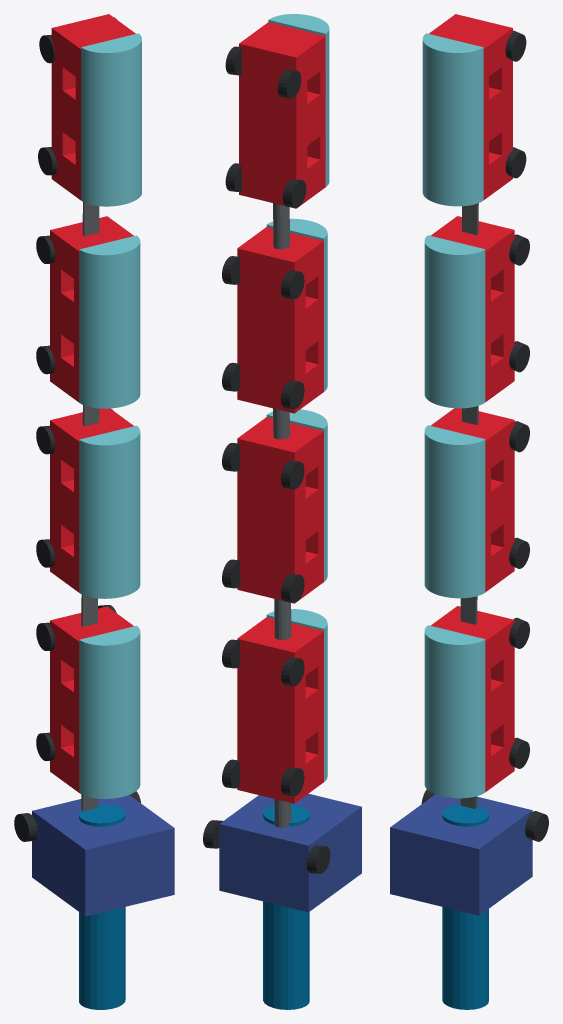
Rendered from tinker.obj.
3 views of the same model, side by side, from view 1: azimuth 30°, elevation 25°; view 2: azimuth 150°, elevation 25°; view 3: azimuth 330°, elevation 25° (orthographic).
Visible parts, largest first — view 1: group_0_7720667, group_0_15277357, group_0_3888547, group_0_30377, group_0_2829873, group_0_6383466; view 2: group_0_15277357, group_0_3888547, group_0_2829873, group_0_30377, group_0_7720667, group_0_6383466; view 3: group_0_7720667, group_0_15277357, group_0_3888547, group_0_30377, group_0_2829873, group_0_6383466.
Boxes of the visible parts, x1,y1,x2,y2 form: group_0_7720667: (79, 33, 141, 798); group_0_15277357: (50, 14, 135, 792); group_0_3888547: (32, 795, 174, 916); group_0_30377: (79, 804, 125, 1009); group_0_2829873: (14, 17, 140, 841); group_0_6383466: (81, 202, 99, 811); group_0_15277357: (237, 22, 325, 803); group_0_3888547: (219, 793, 361, 912); group_0_2829873: (203, 46, 330, 873); group_0_30377: (263, 804, 309, 1009); group_0_7720667: (266, 14, 329, 781); group_0_6383466: (273, 203, 291, 827); group_0_7720667: (422, 33, 485, 798); group_0_15277357: (429, 14, 514, 791); group_0_3888547: (390, 794, 532, 915); group_0_30377: (442, 804, 488, 1009); group_0_2829873: (421, 30, 548, 841); group_0_6383466: (460, 203, 478, 808).
Size of the model in its own units: 35.5 by 290 by 33.
